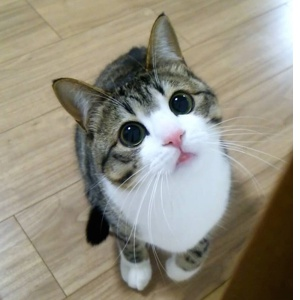cat: (39, 5, 269, 278)
